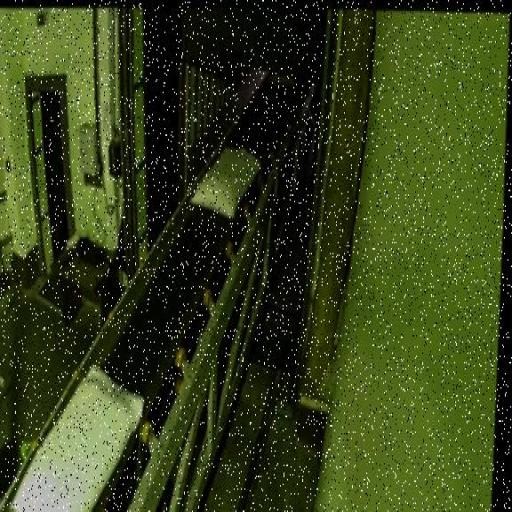c-belt-sack-count: (12, 367, 142, 510), (192, 149, 260, 218)
